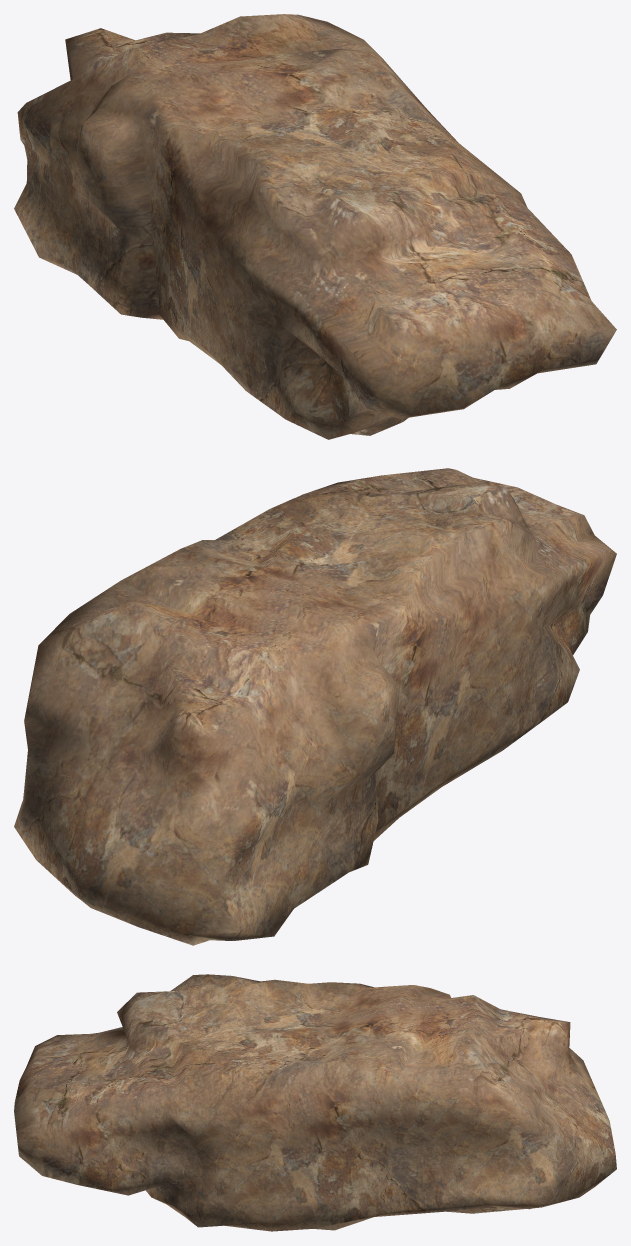
Rendered from Rock_9.obj.
3 views of the same model, one above another, from view 1: azimuth 30°, elevation 25°; view 2: azimuth 150°, elevation 25°; view 3: azimuth 270°, elevation 25° (orthographic). The views are drawn at different scales.
Visible parts, largest first — view 1: Rock_9; view 2: Rock_9; view 3: Rock_9.
Part boxes in pixels (x1,y1,x2,y2): Rock_9: (14, 14, 616, 439); Rock_9: (14, 468, 616, 945); Rock_9: (14, 974, 616, 1231).
Size of the model in its own units: 2.6 by 2.05 by 6.13.
1 material, 1 textured.
